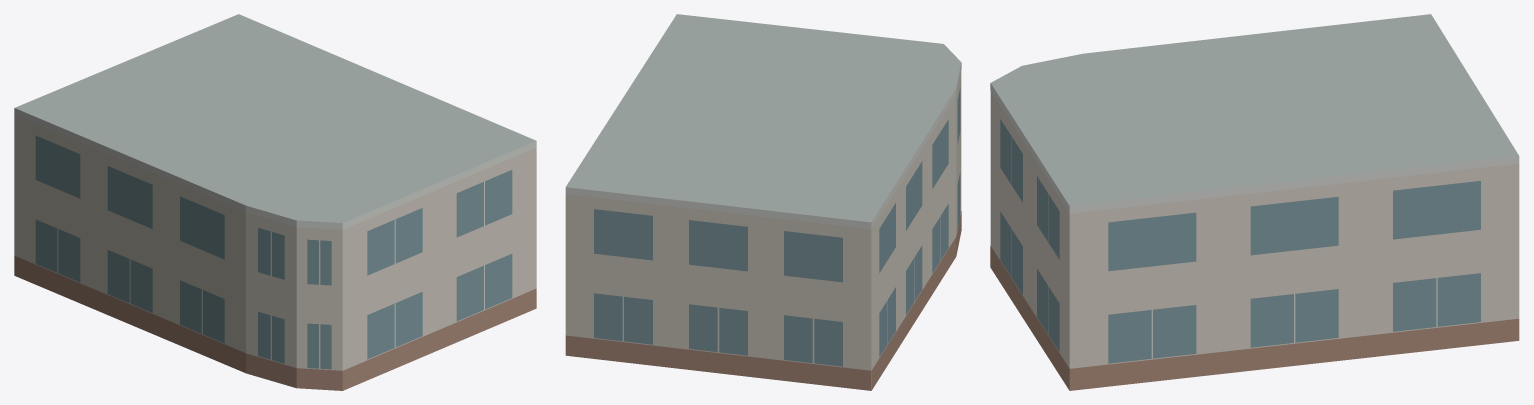
The model's file is survey-upis-32750759.glb.
The picture shows the model from 3 angles, left to right: view 1: azimuth 30°, elevation 25°; view 2: azimuth 150°, elevation 25°; view 3: azimuth 270°, elevation 25°; orthographic projection. The views are drawn at different scales.
Parts seen in each view (by area): view 1: survey-upis-32750759.tmp; view 2: survey-upis-32750759.tmp; view 3: survey-upis-32750759.tmp.
Part boxes in pixels (box(x1,y1,x2,y2)): survey-upis-32750759.tmp: box(14, 14, 536, 390); survey-upis-32750759.tmp: box(565, 14, 961, 390); survey-upis-32750759.tmp: box(990, 14, 1519, 390).
Size of the model in its own units: 13.63 by 6.1 by 15.85.
